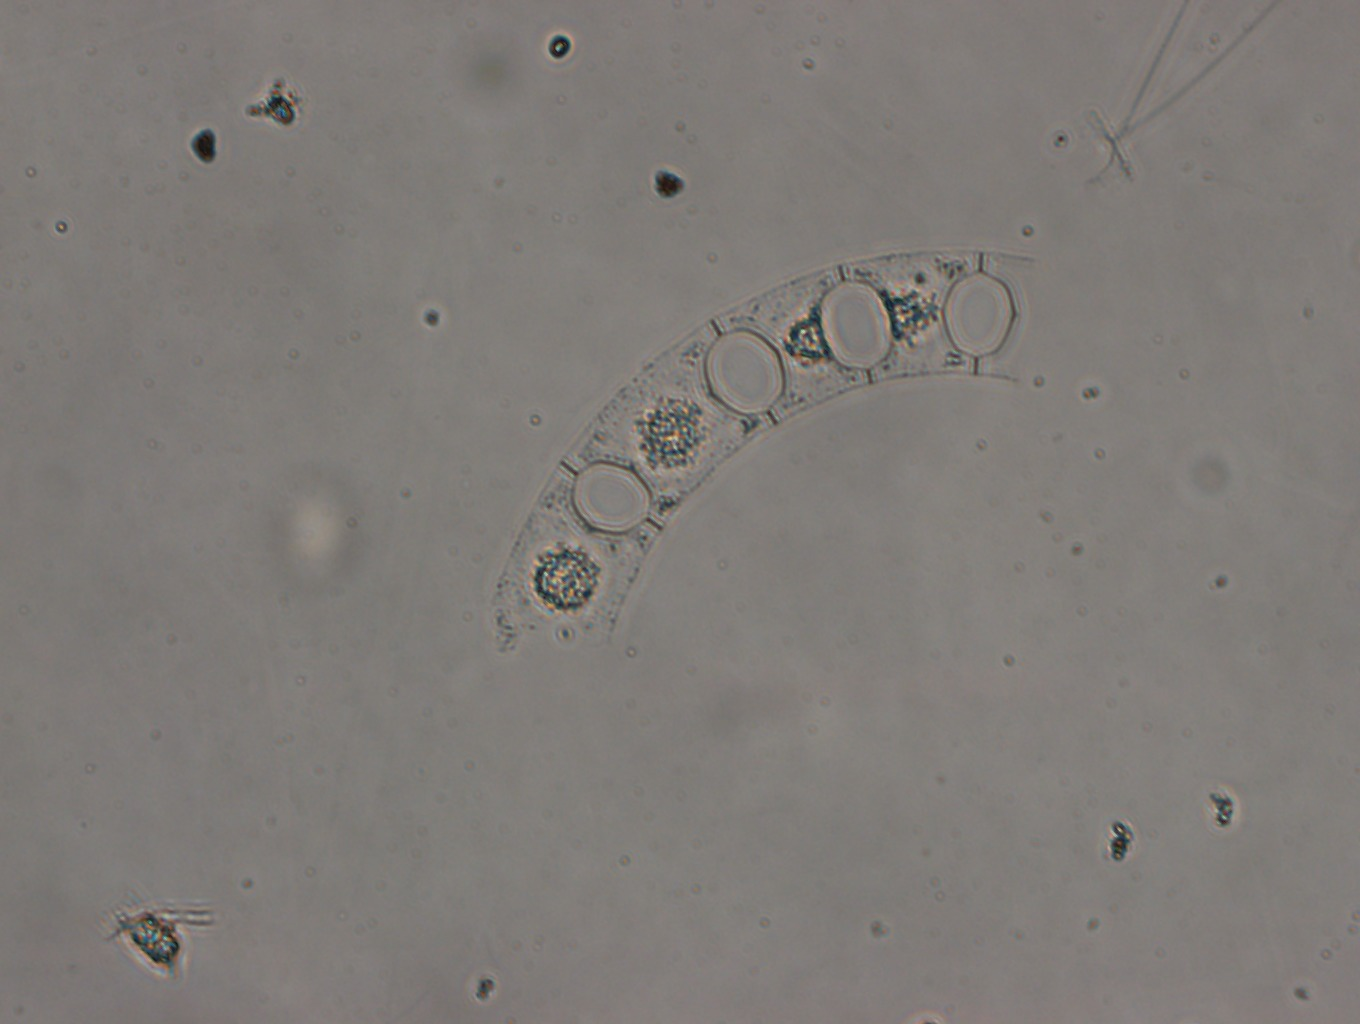eucampia: (492, 248, 1044, 658)
